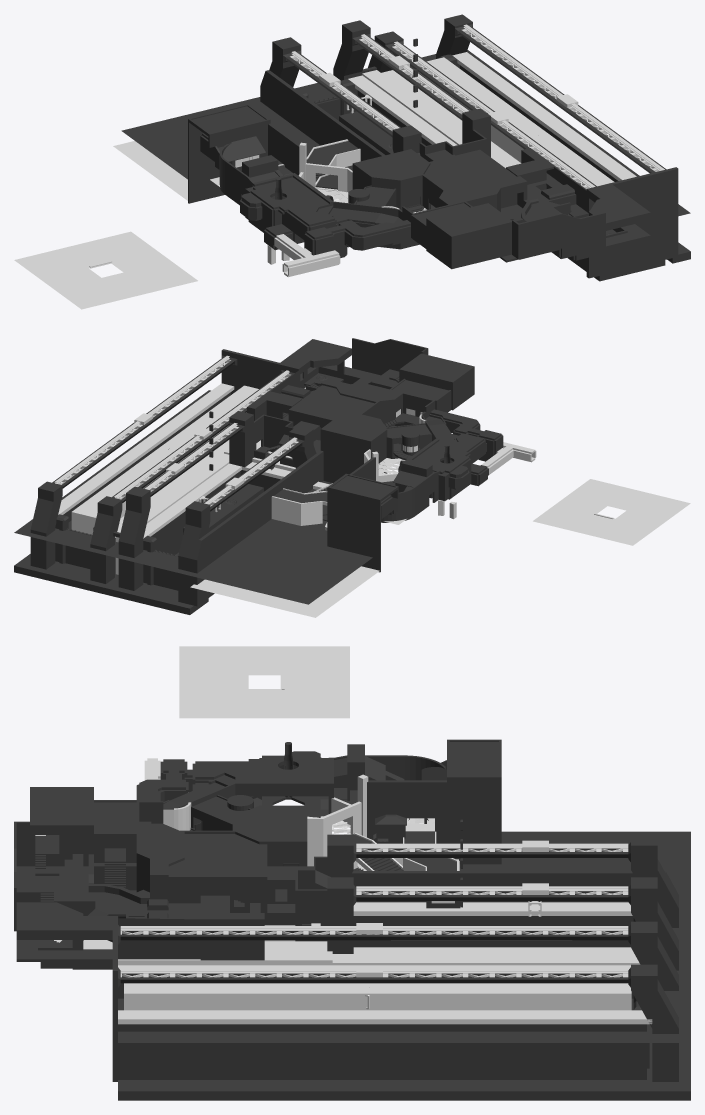
Rendered from cp_spiral.glb.
3 renders of one model, top to bottom at view 1: azimuth 30°, elevation 25°; view 2: azimuth 150°, elevation 25°; view 3: azimuth 270°, elevation 25°, orthographic. The views are drawn at different scales.
Parts seen in each view (by area): view 1: world; view 2: world; view 3: world.
Part boxes in pixels (left/top/right/bottom): world: left=14, top=14, right=690, bottom=309; world: left=14, top=338, right=690, bottom=617; world: left=14, top=646, right=690, bottom=1100.
Size of the model in its own units: 195 by 49.09 by 155.
Materials: 1 (1 with a texture image).
